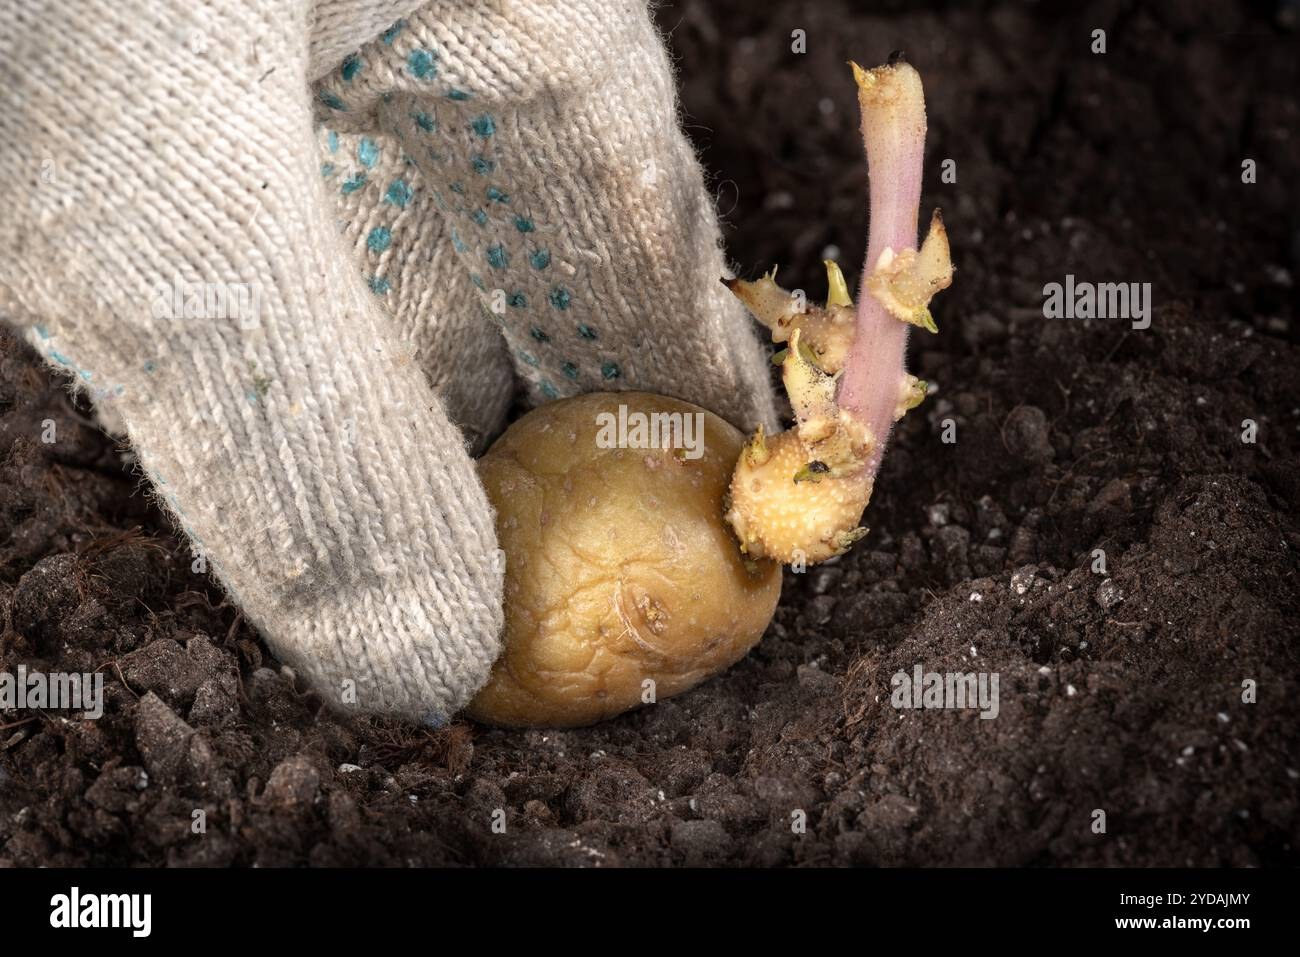potato rotten: (441, 297, 937, 733)
